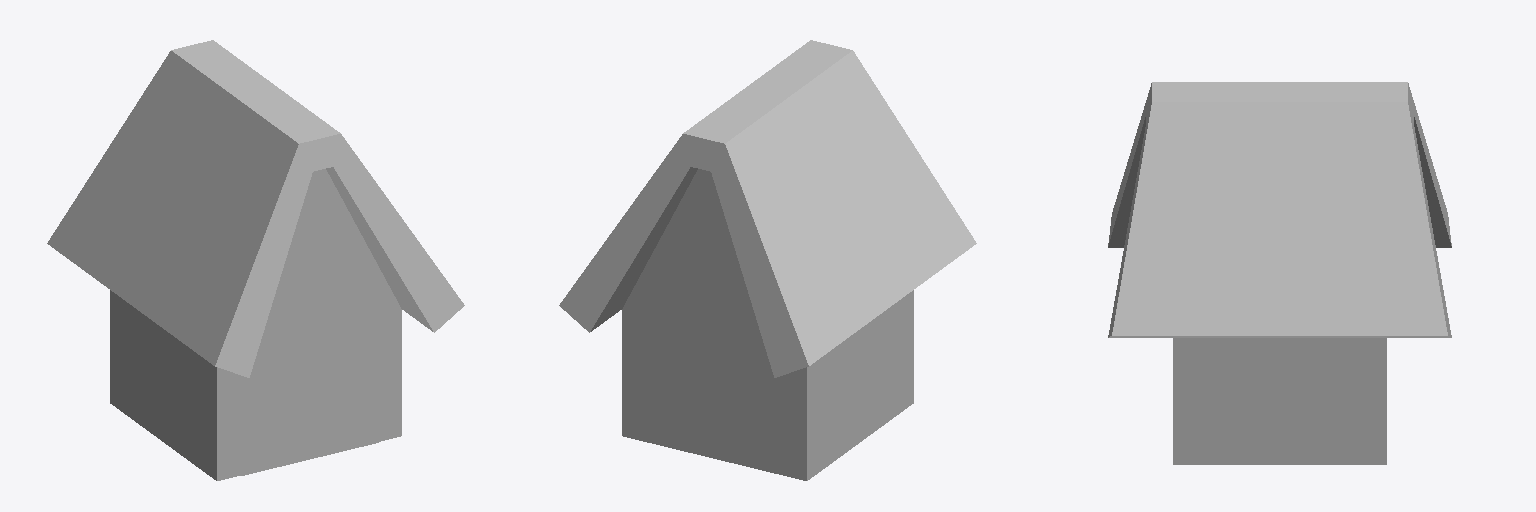
The model's file is Casa Snoppy.obj.
The picture shows the model from 3 angles: view 1: azimuth 30°, elevation 25°; view 2: azimuth 150°, elevation 25°; view 3: azimuth 270°, elevation 25°; orthographic projection.
Visible parts, largest first — view 1: Mesh_0938_rip, Mesh_0094_rip; view 2: Mesh_0938_rip; view 3: Mesh_0938_rip.
Boxes of the visible parts, x1=… form: Mesh_0938_rip: x1=47, y1=40, x2=464, y2=480; Mesh_0094_rip: x1=241, y1=266, x2=378, y2=475; Mesh_0938_rip: x1=559, y1=40, x2=976, y2=480; Mesh_0938_rip: x1=1108, y1=82, x2=1451, y2=464.
Size of the model in its own units: 0.4348 by 0.5454 by 0.518.